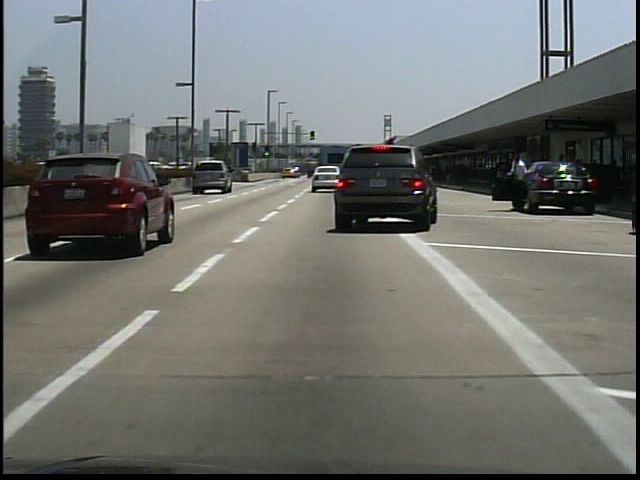person: (506, 150, 530, 215)
